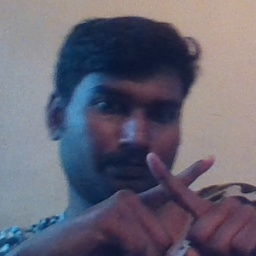X: (107, 139, 243, 256)
